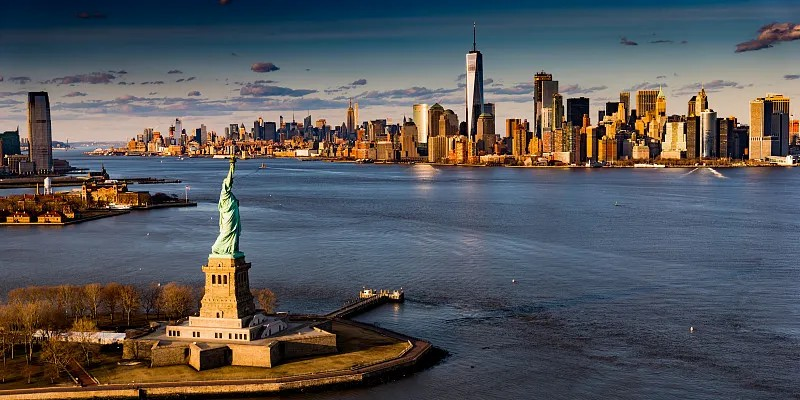SL: (200, 157, 255, 320)
